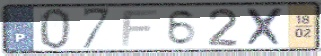0: (38, 7, 73, 51)
2: (206, 7, 241, 48)
6: (165, 9, 199, 47)
7: (81, 6, 113, 50)
F: (120, 8, 160, 48)
X: (244, 6, 288, 48)
